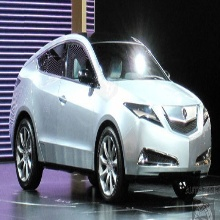no damage: (8, 32, 213, 202)
